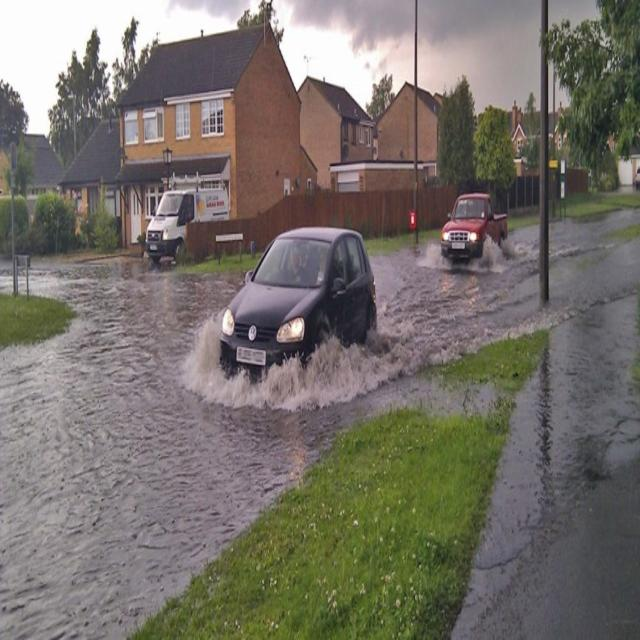car: (212, 226, 376, 378), (144, 176, 228, 265), (442, 193, 502, 263)
